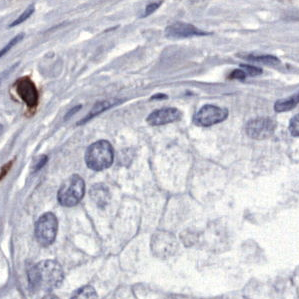Lymphocyte: (13, 75, 41, 112)
